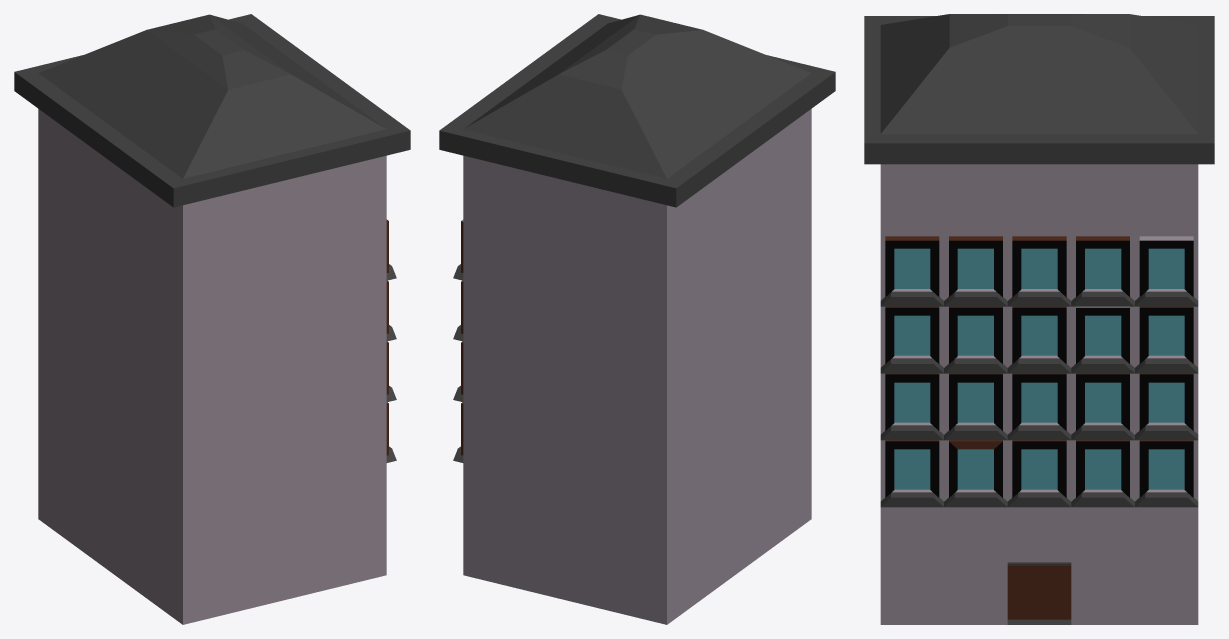
Rendered from house_6.fbx.
3 views of the same model, side by side, from view 1: azimuth 30°, elevation 25°; view 2: azimuth 150°, elevation 25°; view 3: azimuth 270°, elevation 25° (orthographic). The views are drawn at different scales.
Parts seen in each view (by area): view 1: Building10; view 2: Building10; view 3: Building10.
Part boxes in pixels (x1,y1,x2,y2): Building10: [14, 14, 410, 624]; Building10: [439, 14, 835, 624]; Building10: [864, 14, 1214, 624].
Bounding box in the file's own units: 426 × 864 × 496.
